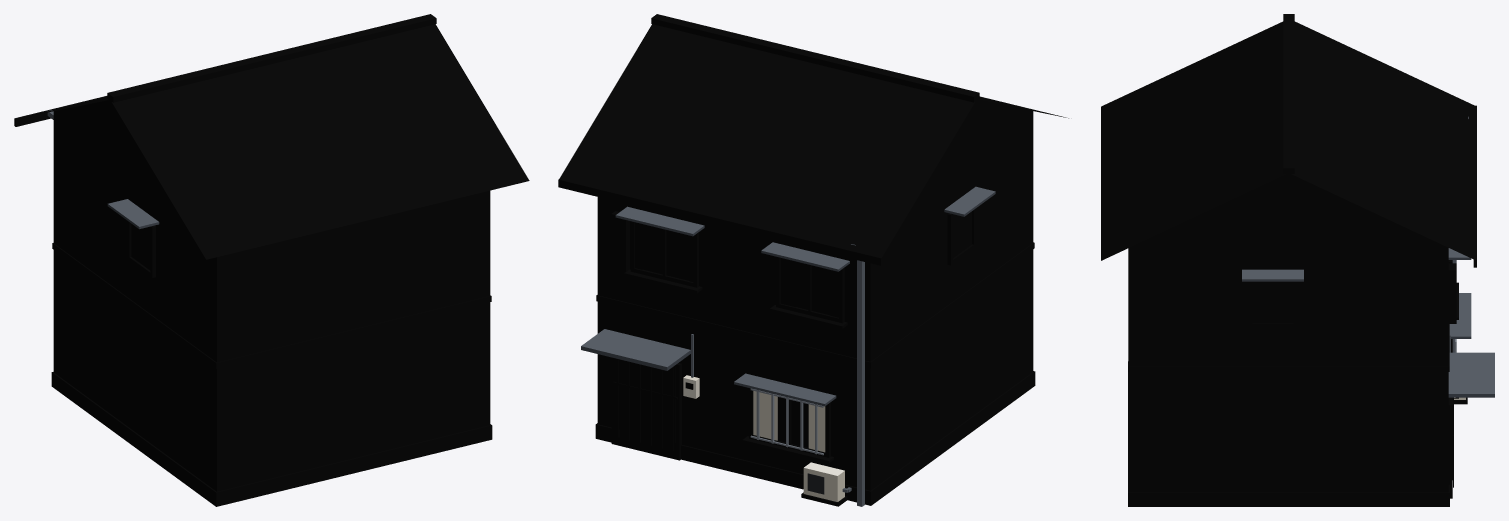
Rendered from House_B.fbx.
3 renders of one model, left to right at view 1: azimuth 30°, elevation 25°; view 2: azimuth 150°, elevation 25°; view 3: azimuth 270°, elevation 25°, orthographic. The views are drawn at different scales.
Parts seen in each view (by area): view 1: Body.001, Roof.001, Footing.001, Belt.001, Gables.001, Hoods.001, Glass.001, WinFrame.001; view 2: Body.001, Roof.001, Glass.001, WinFrame.001, Footing.001, Hoods.001, Belt.001, Gables.001, Hood.001, Pipes.001, Door.001, Curtain0.001 (+6 smaller); view 3: Body.001, Roof.001, Gables.001, Footing.001, Belt.001, Hood.001, Glass.001, Hoods.001, WinFrame.001, Shutterbox.001, Door.001.
Boxes of the visible parts, x1,y1,x2,y2 form: Body.001: (53,111,490,491); Roof.001: (14,14,529,259); Footing.001: (51,372,492,506); Belt.001: (52,243,491,368); Gables.001: (55,100,164,191); Hoods.001: (107,199,159,229); Glass.001: (131,224,150,270); WinFrame.001: (127,221,155,277); Body.001: (597,111,1033,490); Roof.001: (558,14,1068,265); Glass.001: (616,211,971,447); WinFrame.001: (624,208,976,463); Footing.001: (595,371,1035,505); Hoods.001: (615,186,995,406); Belt.001: (596,242,1034,367); Gables.001: (922,100,1031,190); Hood.001: (581,329,690,370); Pipes.001: (691,244,864,506); Door.001: (611,357,681,460); Curtain0.001: (753,391,825,452); Body.001: (1129,235,1448,492); Roof.001: (1101,14,1476,267); Gables.001: (1156,174,1421,235); Footing.001: (1128,361,1449,506); Belt.001: (1128,248,1449,371); Hood.001: (1448,352,1494,397); Glass.001: (1252,282,1453,479); Hoods.001: (1242,248,1471,338); WinFrame.001: (1248,260,1458,398); Shutterbox.001: (1448,263,1456,323); Door.001: (1448,397,1452,498).
Size of the model in its own units: 7.1 by 7.5 by 7.65.
